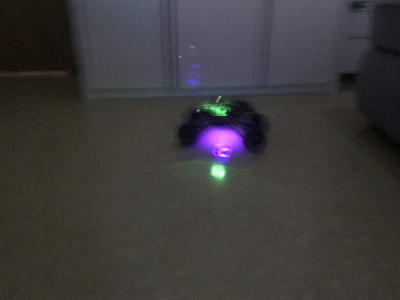remote control car: (176, 91, 272, 155)
